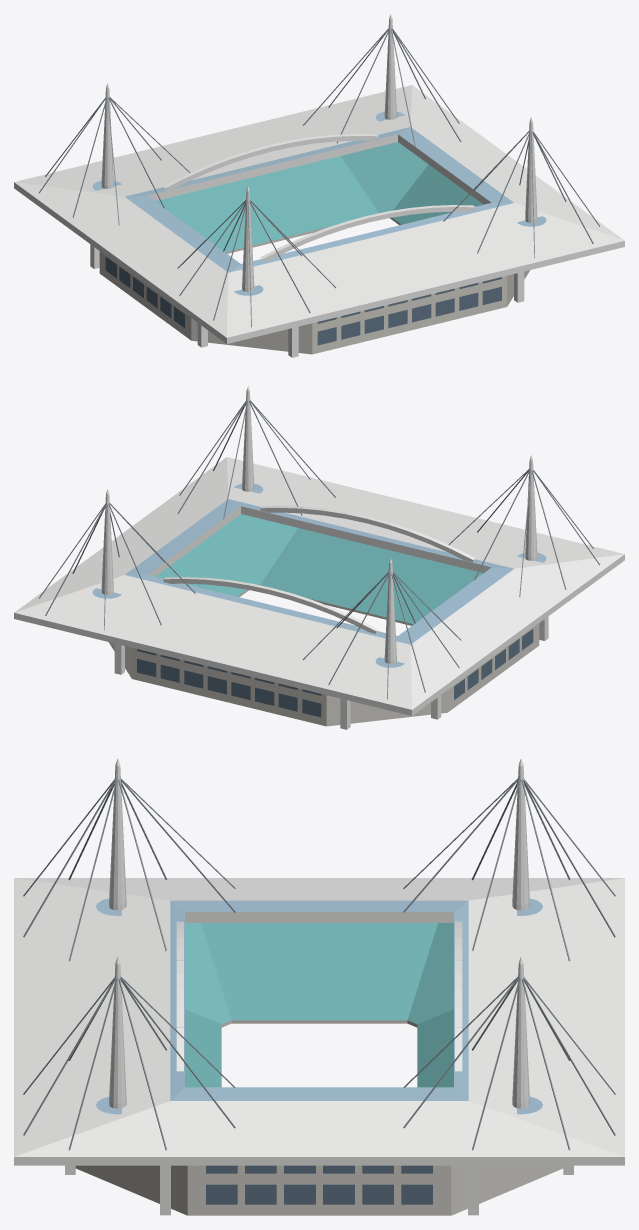
Rendered from mia-hard-rock-stadium.glb.
The picture shows the model from 3 angles, top to bottom: view 1: azimuth 30°, elevation 25°; view 2: azimuth 150°, elevation 25°; view 3: azimuth 270°, elevation 25°; orthographic projection. The views are drawn at different scales.
Visible parts, largest first — view 1: Hard Rock Stadium; view 2: Hard Rock Stadium; view 3: Hard Rock Stadium.
Boxes of the visible parts, x1,y1,x2,y2 form: Hard Rock Stadium: [14, 14, 624, 357]; Hard Rock Stadium: [14, 386, 624, 729]; Hard Rock Stadium: [14, 758, 624, 1215].
Size of the model in its own units: 270 by 107 by 250.
